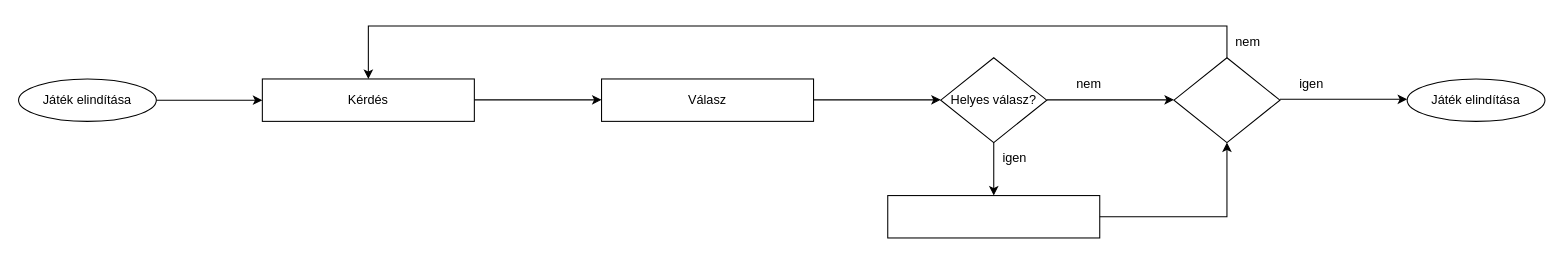
The diagram is 1563 pixels wide and 257 high, and some of its shapes have lost their labels. The shapes that lost their labels are listed below. From the top down, each one's centre as x and y in pixels, then its label:
At (1226,100): "Utolsó volt?".
At (993,216): "Találat mentése".
